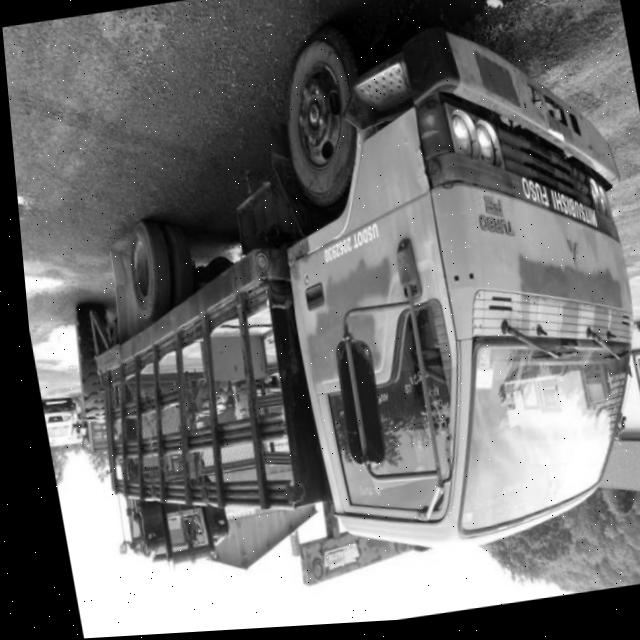truck: (199, 1, 640, 592)
